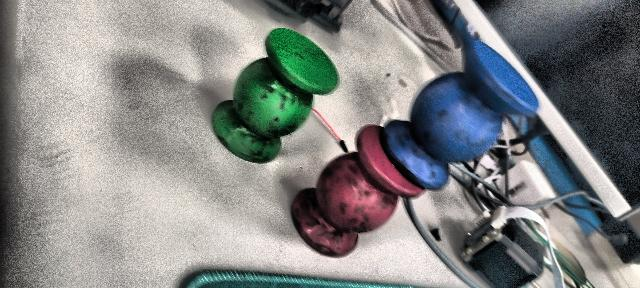blue: (377, 41, 541, 193)
green: (212, 30, 338, 164)
red: (290, 127, 427, 258)
